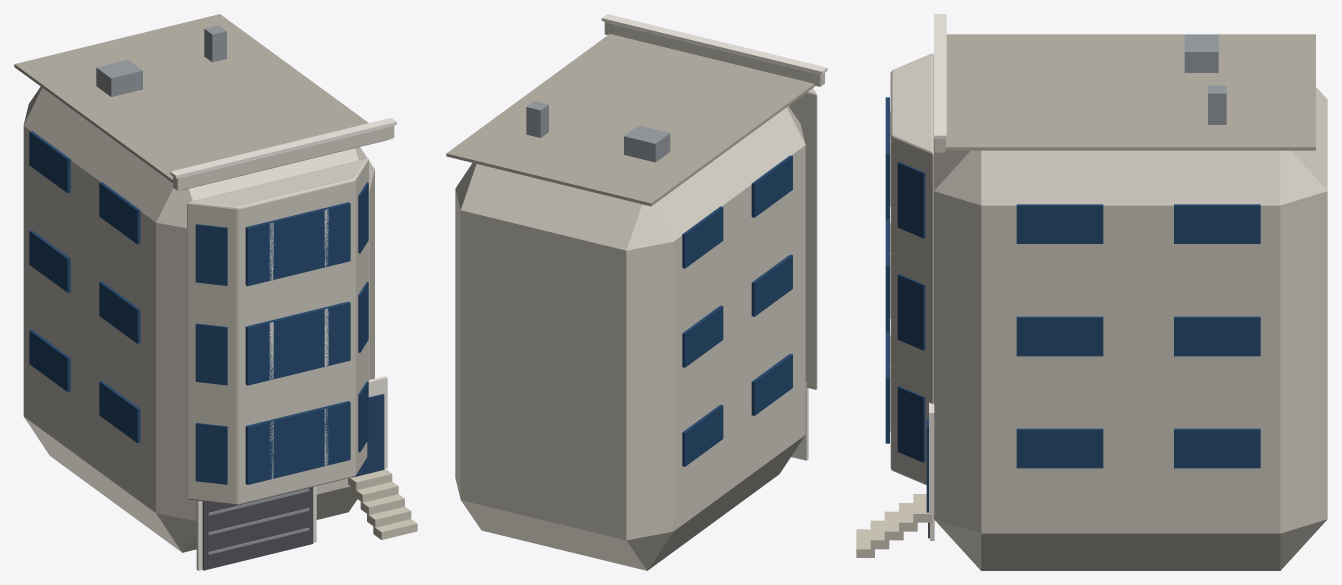
Rendered from rich_w7_tall.glb.
3 views of the same model, side by side, from view 1: azimuth 30°, elevation 25°; view 2: azimuth 150°, elevation 25°; view 3: azimuth 270°, elevation 25° (orthographic). The views are drawn at different scales.
Parts seen in each view (by area): view 1: walls, bay, roofslab, bw, bw.002, bw.001, gdoor, pp, pcap, bwa, bwa.002, bwa.004 (+19 smaller); view 2: walls, roofslab, bay, pp, pcap, sb.002, sb.006, sb.008, sb, sb.010, sb.004, hvac (+2 smaller); view 3: walls, roofslab, bay, sb.001, sb.005, sb.003, sb.007, sb.009, sb.011, bwa.001, bwa.003, bwa.005 (+5 smaller).
Part boxes in pixels (box(x1,y1,x2,y2)): walls: box(23, 87, 374, 552); bay: box(187, 158, 368, 505); roofslab: box(14, 14, 368, 182); bw: box(245, 401, 350, 484); bw.002: box(245, 202, 350, 286); bw.001: box(245, 301, 350, 385); gdoor: box(202, 487, 313, 570); pp: box(173, 125, 394, 190); pcap: box(170, 118, 396, 178); bwa: box(195, 423, 227, 484); bwa.002: box(195, 323, 227, 385); bwa.004: box(195, 224, 227, 285); walls: box(455, 106, 805, 570); roofslab: box(446, 34, 814, 206); bay: box(789, 88, 817, 389); pp: box(604, 22, 824, 86); pcap: box(601, 14, 827, 74); sb.002: box(682, 404, 723, 466); sb.006: box(682, 305, 723, 367); sb.008: box(751, 155, 792, 217); sb: box(751, 353, 792, 415); sb.010: box(682, 206, 723, 268); sb.004: box(751, 254, 792, 316); hvac: box(624, 125, 670, 162); walls: box(934, 87, 1327, 570); roofslab: box(945, 34, 1315, 150); bay: box(890, 53, 933, 484); sb.001: box(1016, 428, 1103, 468); sb.005: box(1016, 316, 1103, 356); sb.003: box(1174, 428, 1260, 468); sb.007: box(1174, 316, 1260, 356); sb.009: box(1016, 204, 1103, 243); sb.011: box(1174, 204, 1260, 243); bwa.001: box(897, 386, 925, 462); bwa.003: box(897, 274, 925, 350); bwa.005: box(897, 162, 925, 238).
Bounding box in the file's own units: 7.8 × 13.7 × 12.57.
